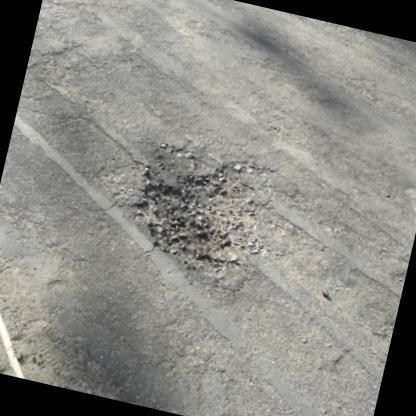pothole: (140, 141, 274, 271)
